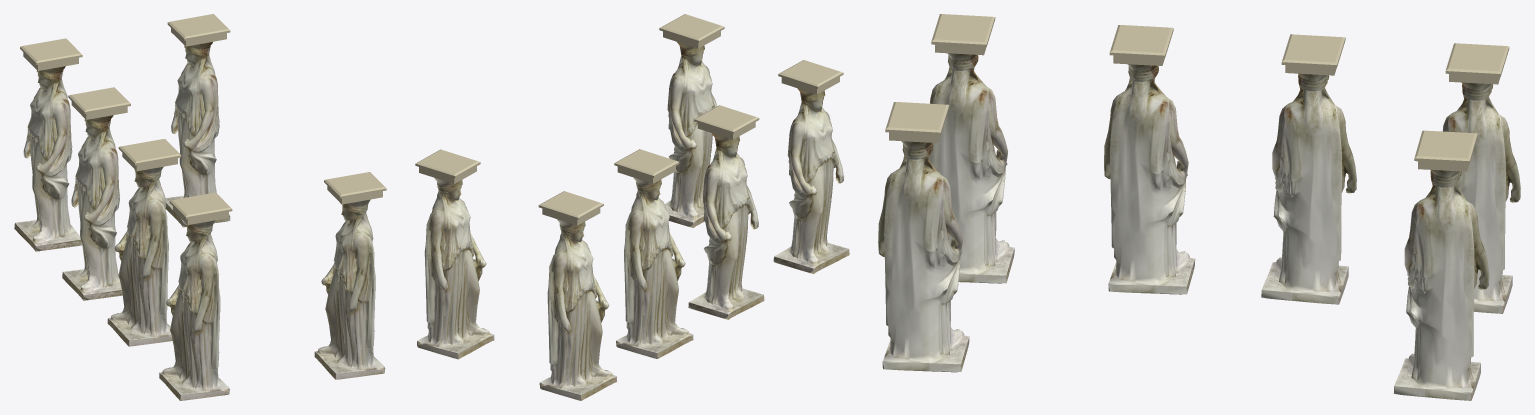
Rendered from cariatides16k.glb.
3 views of the same model, side by side, from view 1: azimuth 30°, elevation 25°; view 2: azimuth 150°, elevation 25°; view 3: azimuth 270°, elevation 25° (orthographic). The views are drawn at different scales.
Parts seen in each view (by area): view 1: Cariatides16k; view 2: Cariatides16k; view 3: Cariatides16k.
Part boxes in pixels (left/top/right/bottom): Cariatides16k: left=14, top=14, right=386, bottom=400; Cariatides16k: left=415, top=14, right=849, bottom=400; Cariatides16k: left=878, top=14, right=1520, bottom=400.
Size of the model in its own units: 3.4 by 2.55 by 6.12.
2 materials, 1 textured.
